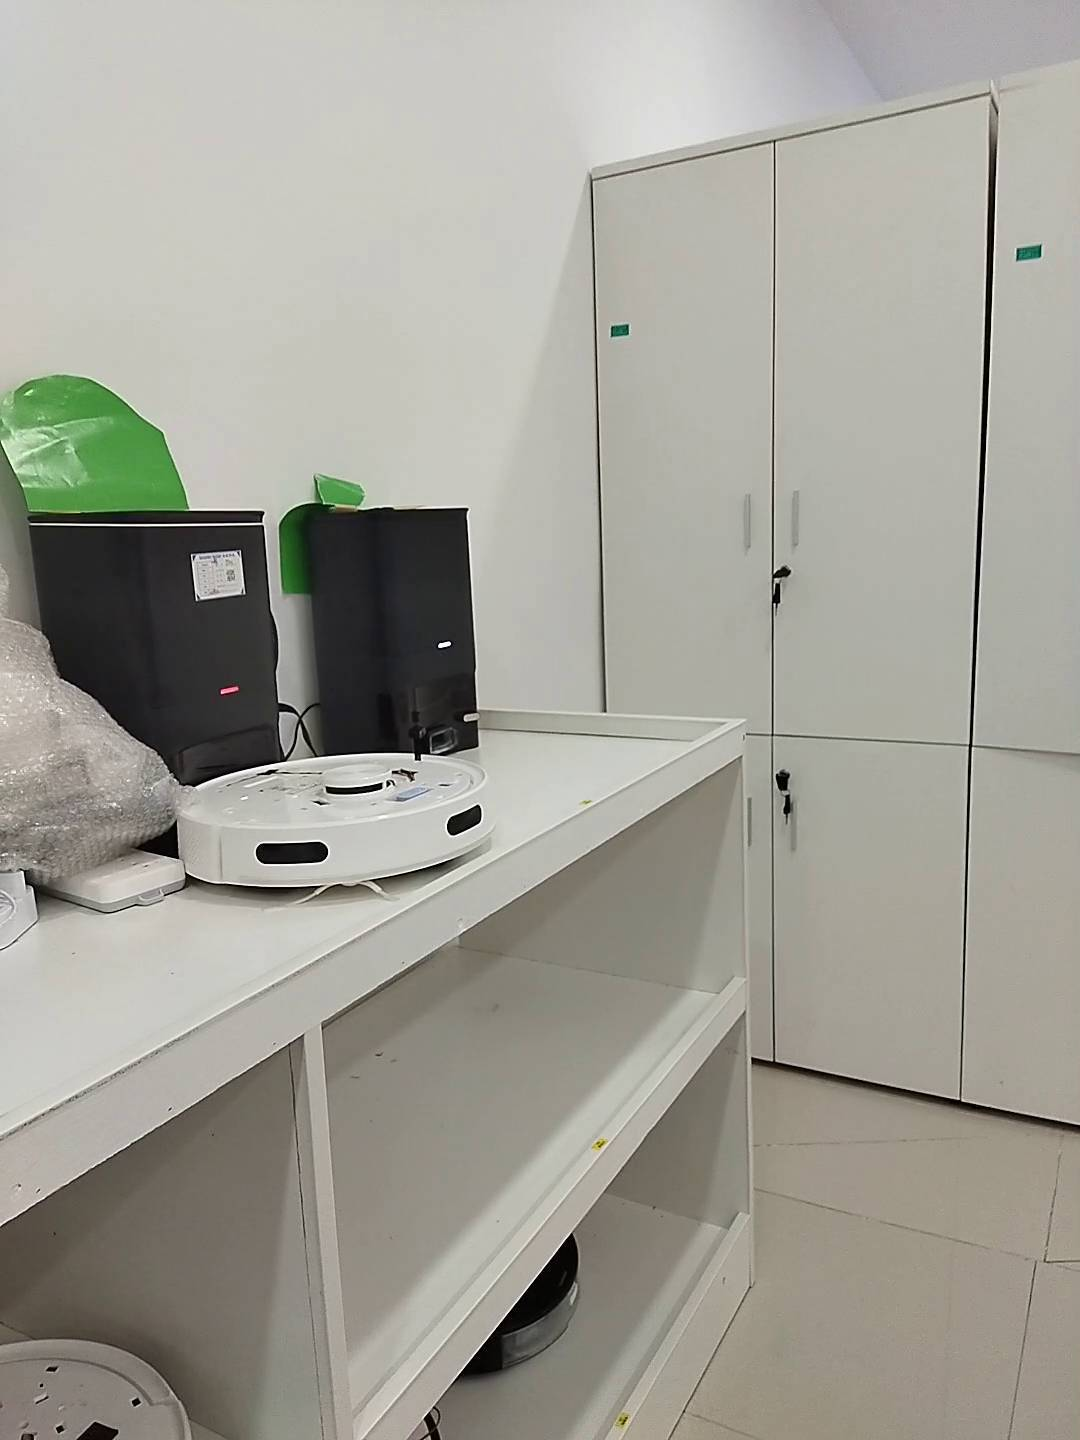dust collecting barrel: (28, 508, 287, 783), (301, 508, 487, 759)
